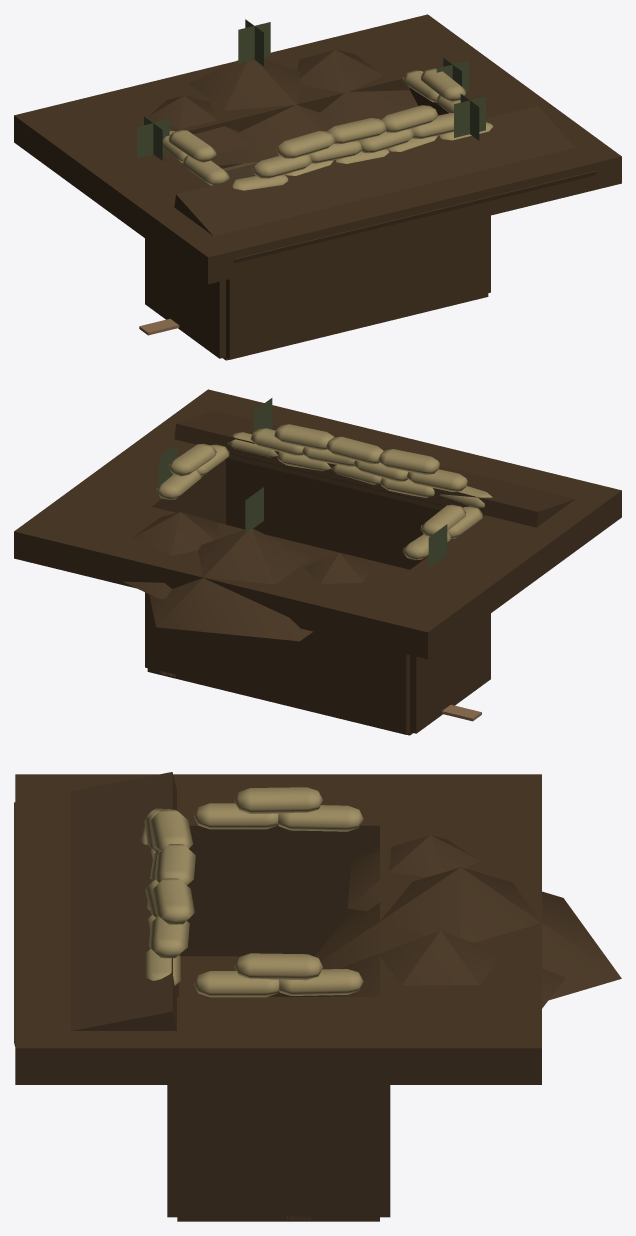
File: two-man-foxhole-fighting.glb
3 renders of one model, top to bottom at view 1: azimuth 30°, elevation 25°; view 2: azimuth 150°, elevation 25°; view 3: azimuth 270°, elevation 25°, orthographic. The views are drawn at different scales.
Parts seen in each view (by area): view 1: Mesh_GroundFront, Mesh_InnerWallFront, Mesh_GroundBack, Mesh_Glacis, Mesh_SpoilMound2, Mesh_GroundRight, Mesh_InnerWallRight, Mesh_SpoilMound1, Mesh_GroundLeft, Mesh_SpoilMound3, Mesh_Grass1, Mesh_Grass2 (+15 smaller); view 2: Mesh_GroundBack, Mesh_InnerWallBack, Mesh_GroundFront, Mesh_InnerWallFront, Mesh_SpoilMound2, Mesh_Glacis, Mesh_GroundRight, Mesh_InnerWallRight, Mesh_GroundLeft, Mesh_SpoilMound1, Mesh_SpoilMound3, Mesh_InnerWallLeft (+20 smaller); view 3: Mesh_GroundBack, Mesh_InnerWallLeft, Mesh_GroundFront, Mesh_Glacis, Mesh_GroundLeft, Mesh_InnerWallRight, Mesh_SpoilMound2, Mesh_GroundRight, Mesh_SpoilMound1, Mesh_SpoilMound3, Mesh_InnerWallBack, Mesh_SandbagR3 (+12 smaller).
Boxes of the visible parts, x1,y1,x2,y2 form: Mesh_GroundFront: (148, 113, 621, 284); Mesh_InnerWallFront: (226, 216, 488, 359); Mesh_GroundBack: (14, 14, 486, 185); Mesh_Glacis: (174, 106, 596, 263); Mesh_SpoilMound2: (189, 59, 329, 165); Mesh_GroundRight: (73, 143, 210, 240); Mesh_InnerWallRight: (145, 151, 225, 358); Mesh_SpoilMound1: (297, 49, 417, 128); Mesh_GroundLeft: (410, 58, 561, 118); Mesh_SpoilMound3: (148, 95, 250, 157); Mesh_Grass1: (238, 19, 270, 66); Mesh_Grass2: (454, 94, 485, 140); Mesh_GroundBack: (14, 488, 487, 659); Mesh_InnerWallBack: (147, 506, 409, 734); Mesh_GroundFront: (149, 389, 621, 560); Mesh_InnerWallFront: (226, 453, 484, 569); Mesh_SpoilMound2: (149, 528, 312, 641); Mesh_Glacis: (174, 410, 574, 527); Mesh_GroundRight: (410, 516, 562, 615); Mesh_InnerWallRight: (410, 515, 490, 733); Mesh_GroundLeft: (74, 433, 225, 512); Mesh_SpoilMound1: (123, 512, 232, 599); Mesh_SpoilMound3: (304, 552, 373, 583); Mesh_InnerWallLeft: (145, 479, 225, 667); Mesh_GroundBack: (380, 774, 541, 1084); Mesh_InnerWallLeft: (177, 997, 379, 1221); Mesh_GroundFront: (15, 774, 177, 1084); Mesh_Glacis: (14, 772, 178, 1046); Mesh_GroundLeft: (177, 997, 379, 1084); Mesh_InnerWallRight: (179, 821, 379, 996); Mesh_SpoilMound2: (314, 867, 621, 1000); Mesh_GroundRight: (177, 774, 379, 862); Mesh_SpoilMound1: (329, 930, 565, 1008); Mesh_SpoilMound3: (347, 835, 480, 911); Mesh_InnerWallBack: (380, 825, 390, 1217); Mesh_SandbagR3: (234, 787, 322, 813).
Size of the model in its own units: 3.2 by 1.7 by 3.
Materials: 1 (1 with a texture image).
